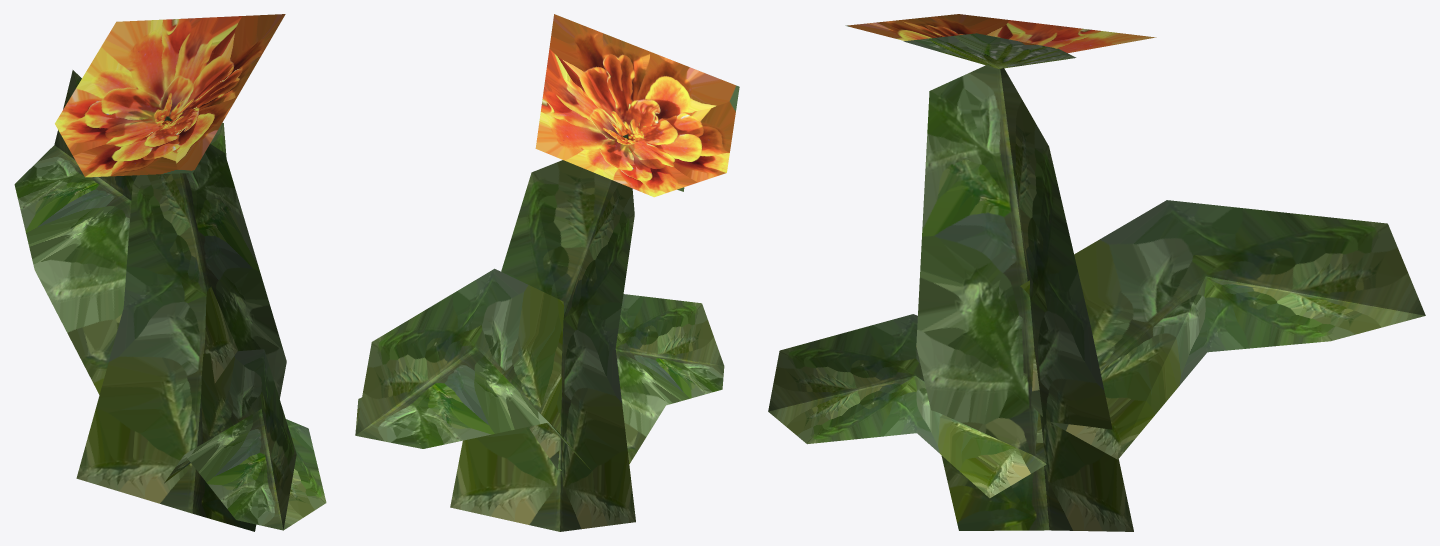
File: SM_Nature_Grass_x4.fbx
The picture shows the model from 3 angles, left to right: view 1: azimuth 30°, elevation 25°; view 2: azimuth 150°, elevation 25°; view 3: azimuth 270°, elevation 25°; orthographic projection. The views are drawn at different scales.
Visible parts, largest first — view 1: SM_Nature_Grass_x4_LOD0; view 2: SM_Nature_Grass_x4_LOD0; view 3: SM_Nature_Grass_x4_LOD0.
Part boxes in pixels (bbox=[...]): SM_Nature_Grass_x4_LOD0: bbox=[14, 14, 326, 531]; SM_Nature_Grass_x4_LOD0: bbox=[355, 14, 739, 531]; SM_Nature_Grass_x4_LOD0: bbox=[768, 14, 1425, 531].
Size of the model in its own units: 23.95 by 53.46 by 48.59.
1 material, 1 textured.
